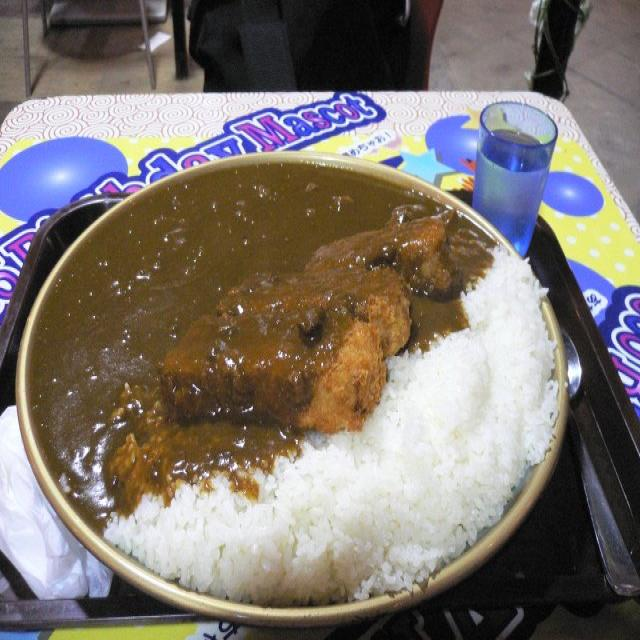猪肉菜式: (10, 133, 580, 627)
